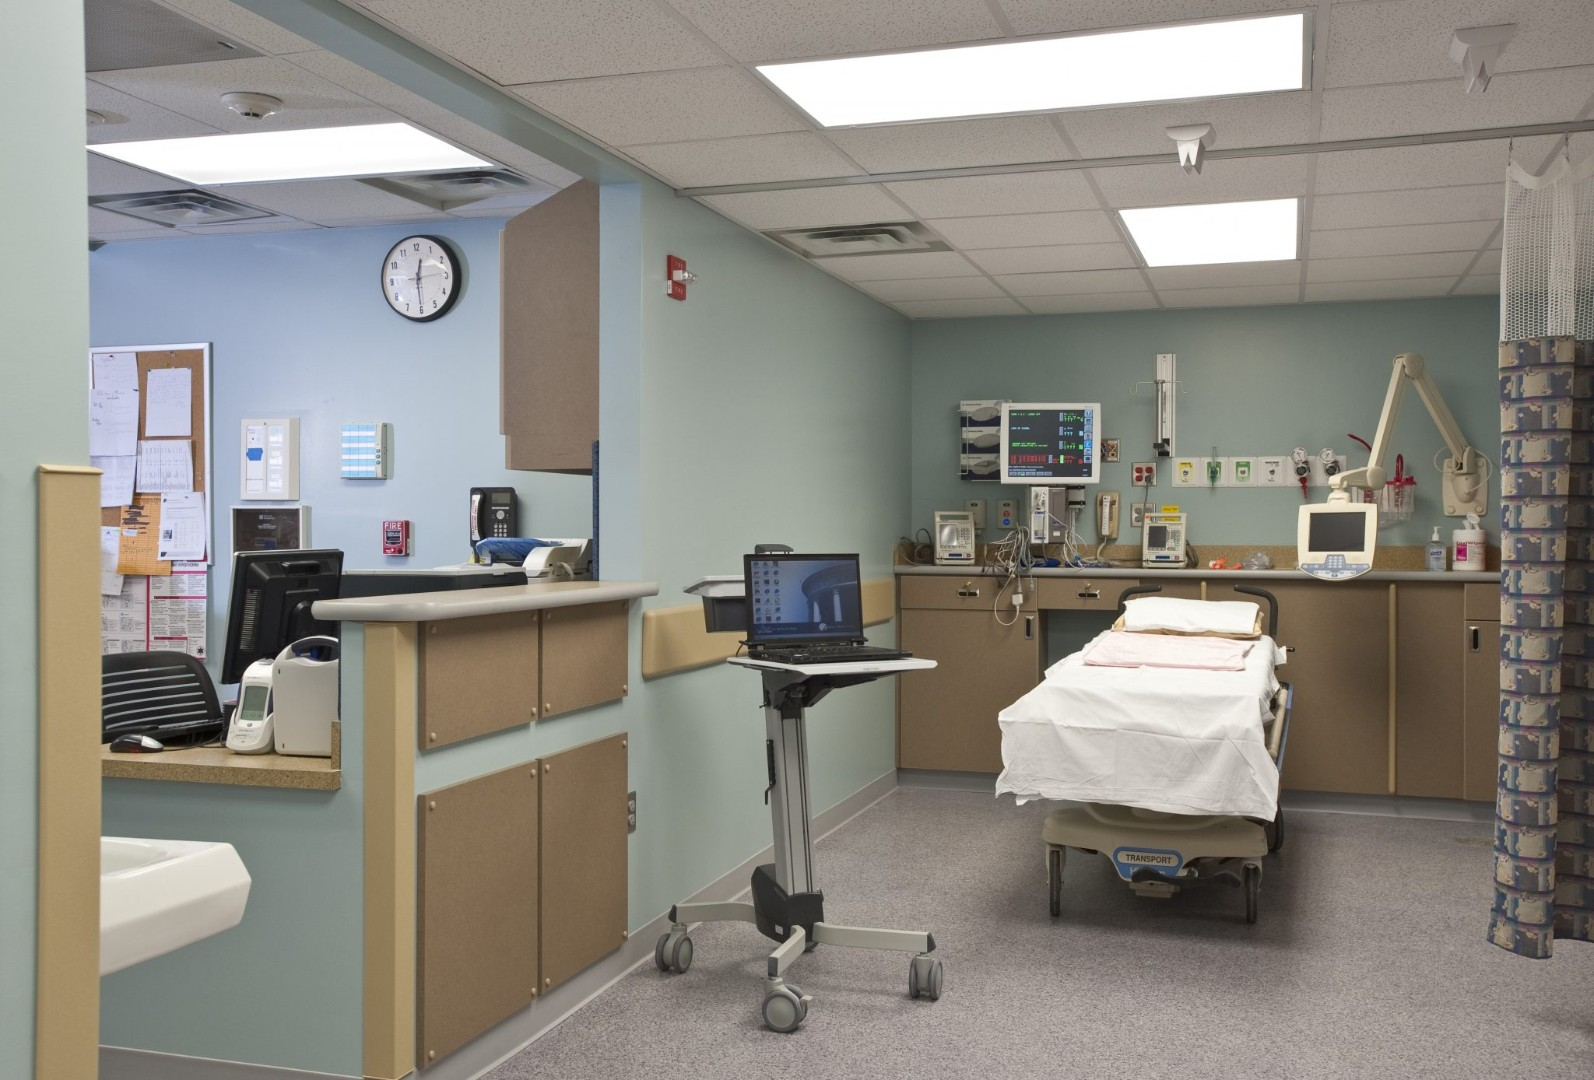bedside_monitor: (999, 401, 1104, 486), (1296, 500, 1381, 581)
chair: (99, 648, 227, 734)
computer: (743, 550, 914, 667), (216, 548, 345, 686)
counter: (102, 567, 661, 1073), (898, 560, 1512, 814)
countertop: (313, 579, 664, 618)
curtain: (1486, 133, 1594, 965)
dispenser: (1421, 526, 1453, 573)
handle: (1467, 630, 1486, 648), (1023, 620, 1036, 641), (957, 587, 978, 599), (1077, 592, 1102, 601)
hospital_bed: (994, 581, 1296, 928)
sink: (98, 835, 252, 979)
telephone: (469, 488, 518, 560)
